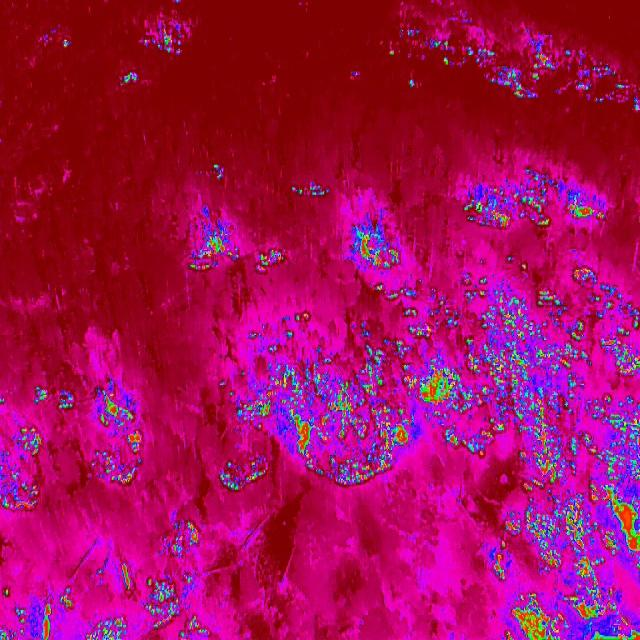fire: (205, 307, 490, 497), (377, 267, 640, 472), (360, 17, 640, 122), (476, 462, 640, 640), (0, 378, 143, 514), (0, 559, 210, 640), (455, 167, 614, 245), (182, 210, 289, 278), (346, 210, 406, 282), (146, 22, 190, 60), (164, 515, 202, 553), (289, 177, 333, 205)
